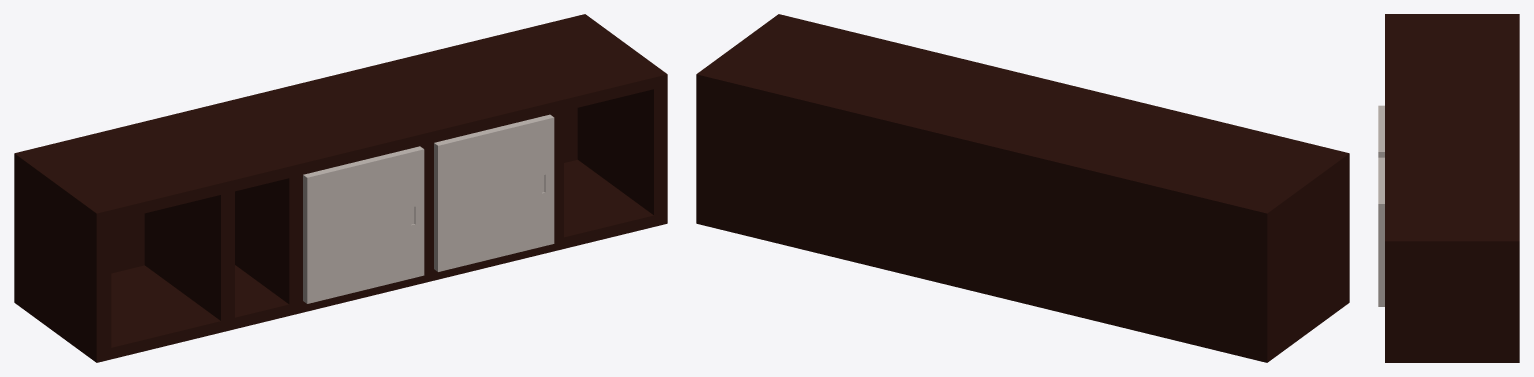
File: OneRoom_TVshelf.fbx
3 views of the same model, side by side, from view 1: azimuth 30°, elevation 25°; view 2: azimuth 150°, elevation 25°; view 3: azimuth 270°, elevation 25° (orthographic). The views are drawn at different scales.
Parts seen in each view (by area): view 1: TVshelf; view 2: TVshelf; view 3: TVshelf.
Boxes of the visible parts, x1,y1,x2,y2 form: TVshelf: (14,14,667,362); TVshelf: (696,14,1349,362); TVshelf: (1378,14,1519,362).
Bounding box in the file's own units: 160 × 40 × 42.
